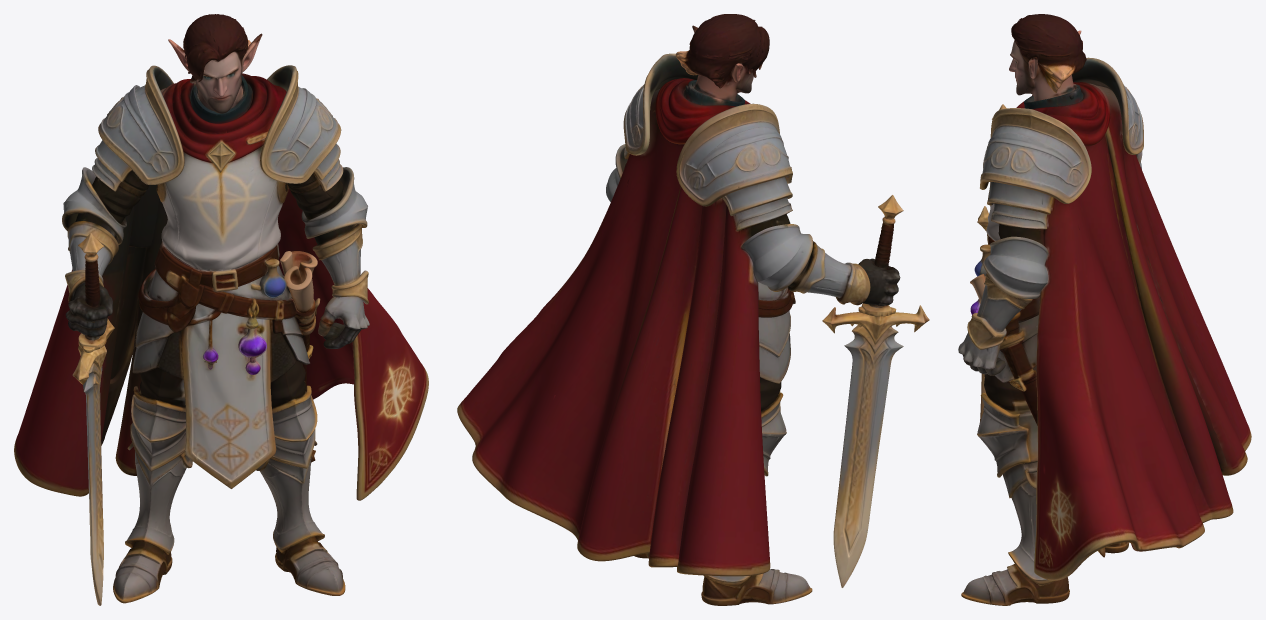
File: half_elf_paladin_full_male_01.glb
3 views of the same model, side by side, from view 1: azimuth 30°, elevation 25°; view 2: azimuth 150°, elevation 25°; view 3: azimuth 270°, elevation 25° (orthographic). The views are drawn at different scales.
Parts seen in each view (by area): view 1: material; view 2: material; view 3: material.
Part boxes in pixels (x1=…): material: x1=14, y1=14, x2=428, y2=605; material: x1=457, y1=14, x2=929, y2=605; material: x1=958, y1=14, x2=1251, y2=605.
Bounding box in the file's own units: 0.807 × 1.05 × 0.5169.
1 material, 1 textured.
